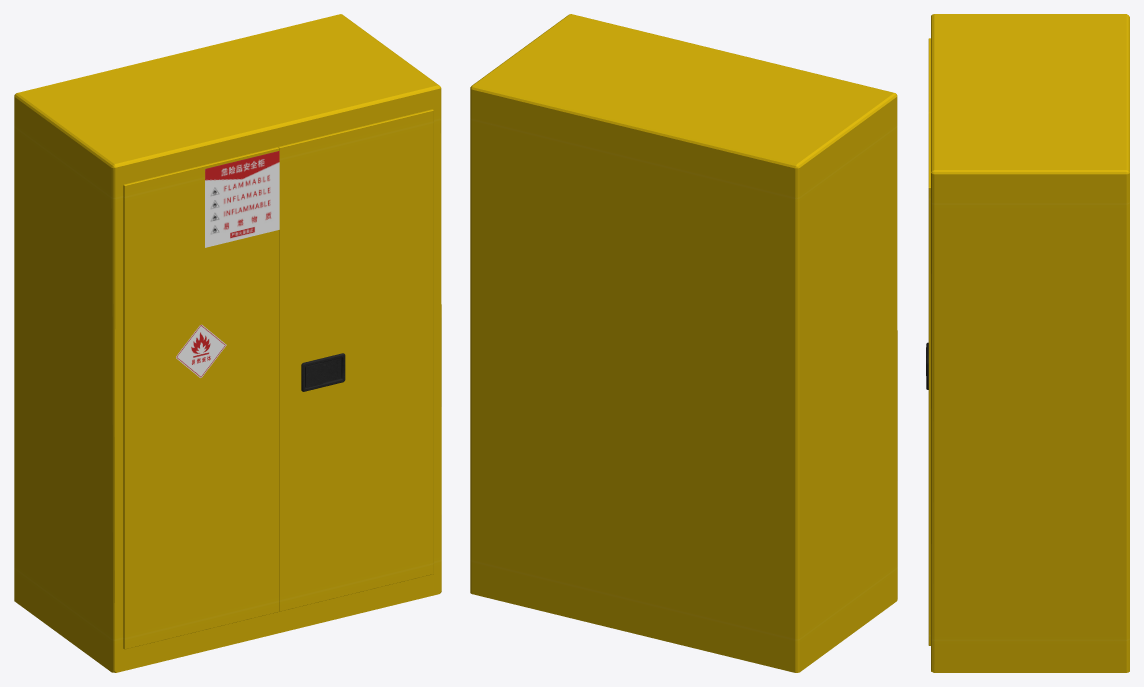
The model's file is SM_药品室_危险品保管贵.fbx.
3 renders of one model, left to right at view 1: azimuth 30°, elevation 25°; view 2: azimuth 150°, elevation 25°; view 3: azimuth 270°, elevation 25°, orthographic.
Parts seen in each view (by area): view 1: SM_药品室_危险品保管贵; view 2: SM_药品室_危险品保管贵; view 3: SM_药品室_危险品保管贵.
Part boxes in pixels (bbox=[...]): SM_药品室_危险品保管贵: bbox=[14, 14, 441, 672]; SM_药品室_危险品保管贵: bbox=[470, 14, 897, 672]; SM_药品室_危险品保管贵: bbox=[926, 14, 1129, 672].
Size of the model in its own units: 781 by 1150 by 423.
